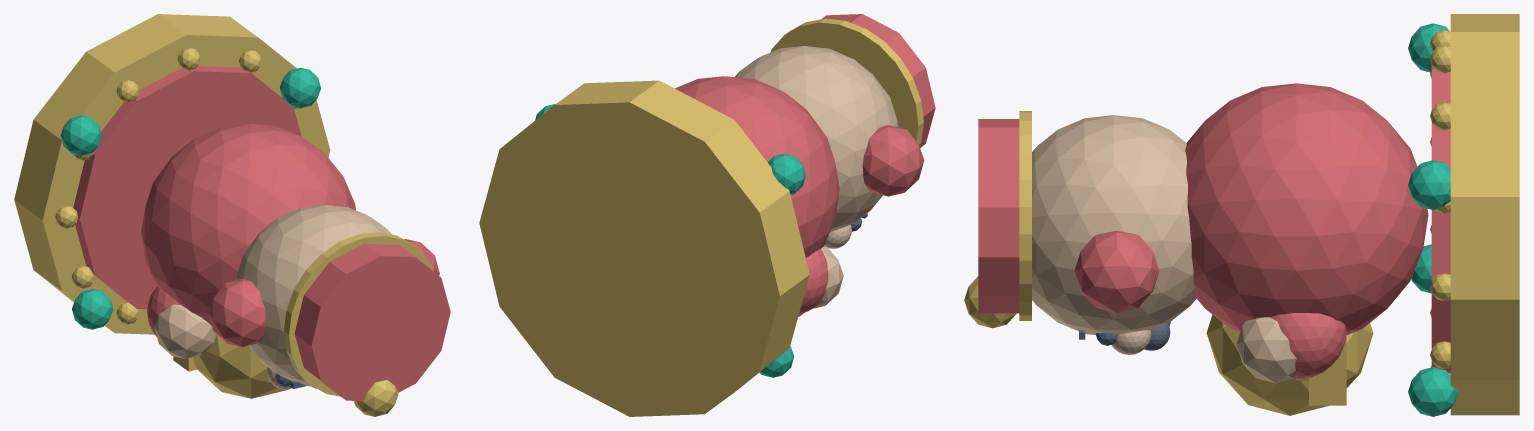
The model's file is than_tai.glb.
3 renders of one model, left to right at view 1: azimuth 30°, elevation 25°; view 2: azimuth 150°, elevation 25°; view 3: azimuth 270°, elevation 25°, orthographic. The views are drawn at different scales.
Parts seen in each view (by area): view 1: robe_2, pedestal_0, pedestal_trim_1, hat_10, face_3, detail_hat_rim_0, ingot_14, ear_ornament_4, hands_12, clover_18, clover_16, clover_17 (+7 smaller); view 2: pedestal_0, face_3, robe_2, detail_hat_rim_0, ear_ornament_4, hat_10, detail_sleeve_8, clover_16, hands_12, clover_18, detail_cheek_1; view 3: robe_2, pedestal_0, face_3, hat_10, ear_ornament_6, ingot_14, pedestal_trim_1, detail_sleeve_10, hands_13, detail_hat_rim_0, clover_19, clover_17 (+5 smaller).
Part boxes in pixels (bbox=[...]): robe_2: bbox=[141, 123, 355, 325]; pedestal_0: bbox=[14, 14, 330, 334]; pedestal_trim_1: bbox=[73, 66, 301, 309]; hat_10: bbox=[294, 243, 450, 401]; face_3: bbox=[236, 205, 391, 386]; detail_hat_rim_0: bbox=[284, 232, 433, 396]; ingot_14: bbox=[193, 334, 288, 398]; ear_ornament_4: bbox=[208, 278, 265, 346]; hands_12: bbox=[154, 304, 216, 358]; clover_18: bbox=[72, 289, 113, 329]; clover_16: bbox=[60, 115, 101, 155]; clover_17: bbox=[279, 68, 320, 108]; pedestal_0: bbox=[479, 80, 809, 416]; face_3: bbox=[735, 46, 898, 232]; robe_2: bbox=[675, 76, 839, 257]; detail_hat_rim_0: bbox=[770, 18, 923, 146]; ear_ornament_4: bbox=[862, 125, 924, 196]; hat_10: bbox=[821, 14, 935, 147]; detail_sleeve_8: bbox=[799, 249, 828, 314]; clover_16: bbox=[767, 154, 805, 194]; hands_12: bbox=[812, 246, 843, 308]; clover_18: bbox=[759, 346, 794, 377]; detail_cheek_1: bbox=[824, 225, 851, 248]; robe_2: bbox=[1185, 83, 1428, 334]; pedestal_0: bbox=[1450, 14, 1519, 415]; face_3: bbox=[1032, 115, 1196, 334]; hat_10: bbox=[978, 119, 1019, 313]; ear_ornament_6: bbox=[1074, 230, 1159, 313]; ingot_14: bbox=[1206, 315, 1373, 415]; pedestal_trim_1: bbox=[1431, 65, 1450, 373]; detail_sleeve_10: bbox=[1270, 313, 1346, 378]; hands_13: bbox=[1236, 317, 1296, 383]; detail_hat_rim_0: bbox=[1019, 111, 1031, 320]; clover_19: bbox=[1408, 367, 1458, 416]; clover_17: bbox=[1408, 160, 1450, 209].
Bounding box in the file's own units: 2.56 × 2.64 × 3.53.
